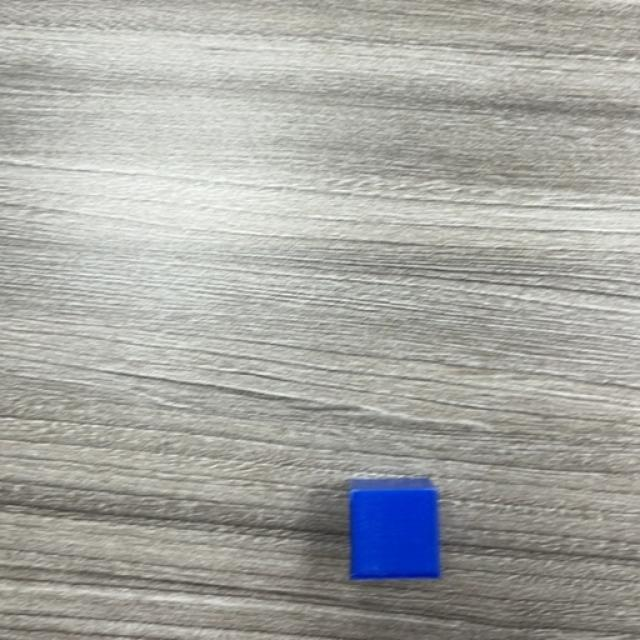Azul: (349, 481, 442, 584)
